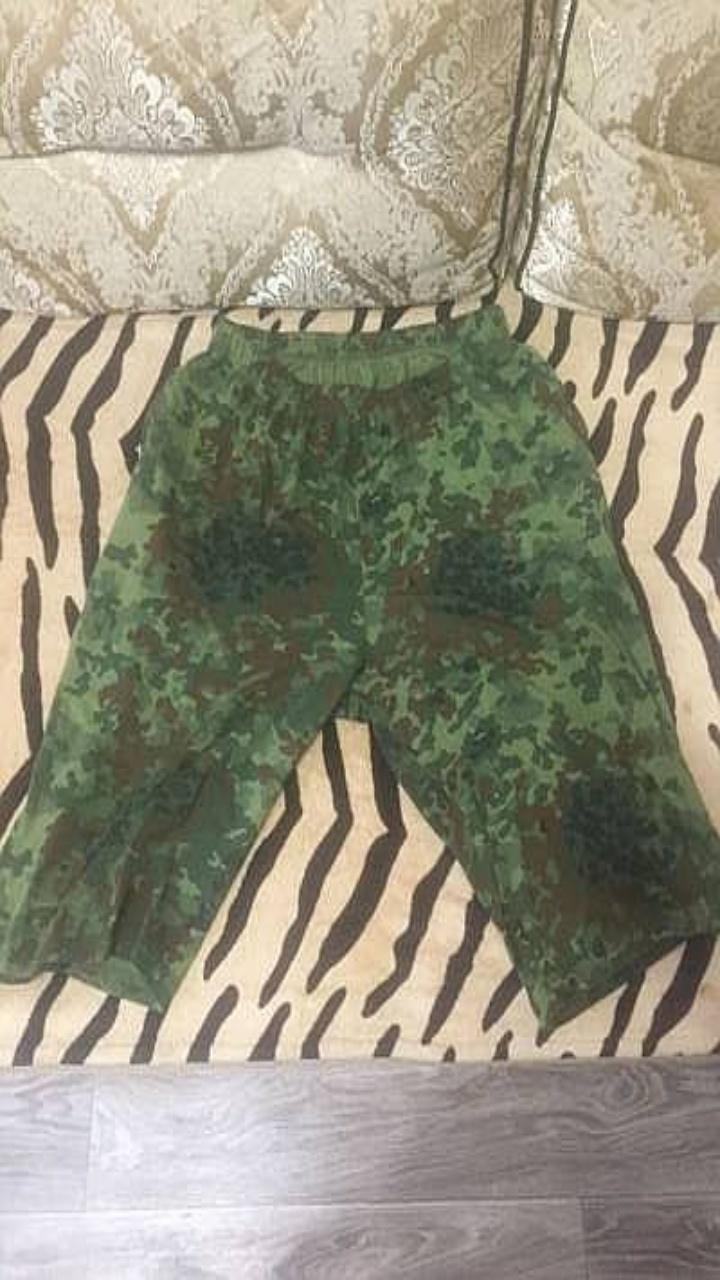Shorts: (0, 307, 719, 1033)
